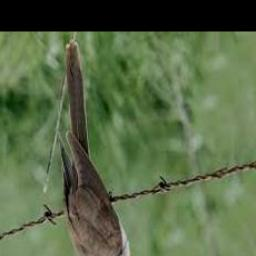Cuckoo: (59, 40, 147, 256)
